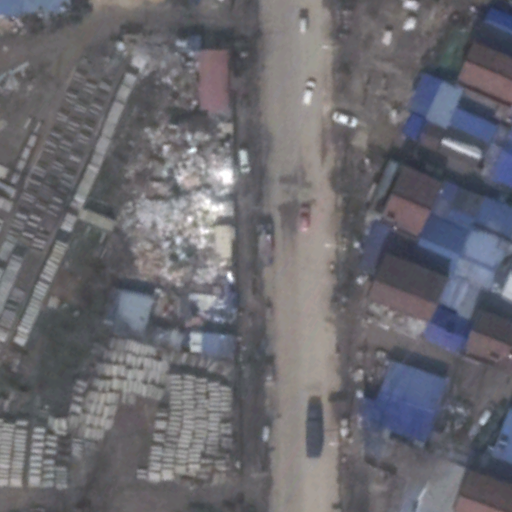msw: (119, 124, 241, 328)
